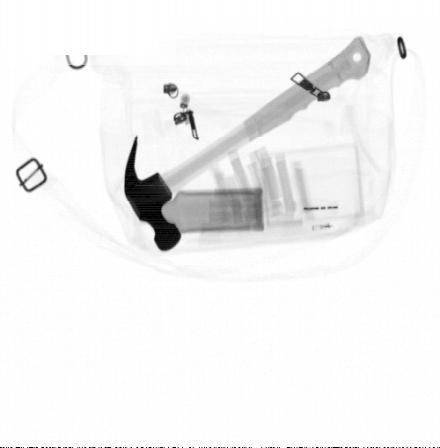Hammer: (123, 35, 371, 251)
